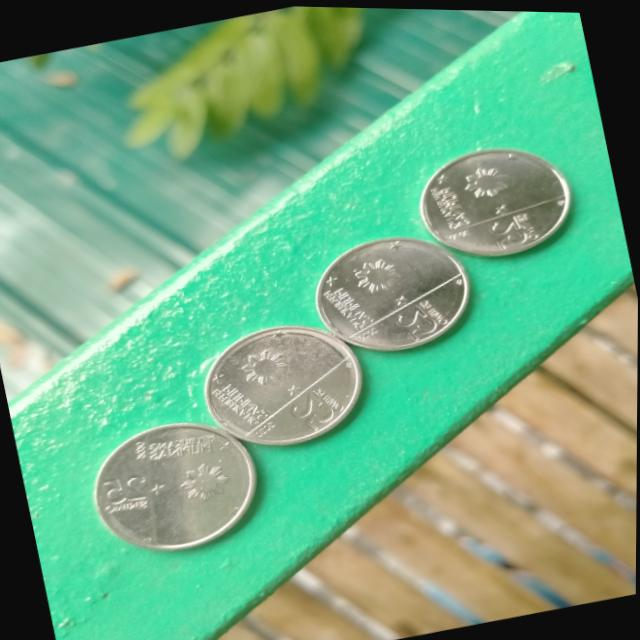25Cent_New_Front: (314, 235, 457, 363), (90, 419, 241, 522)
